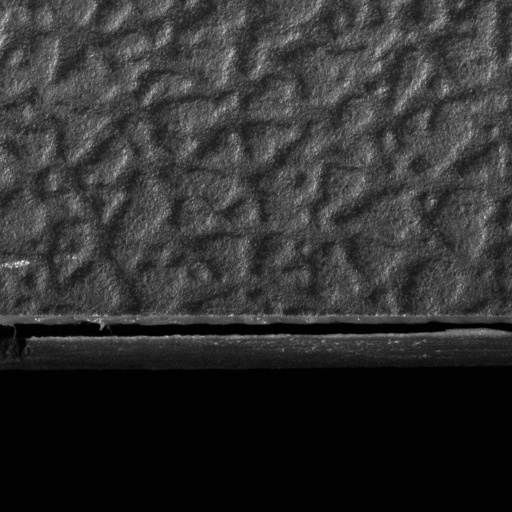kaijiao: (0, 309, 511, 374)
